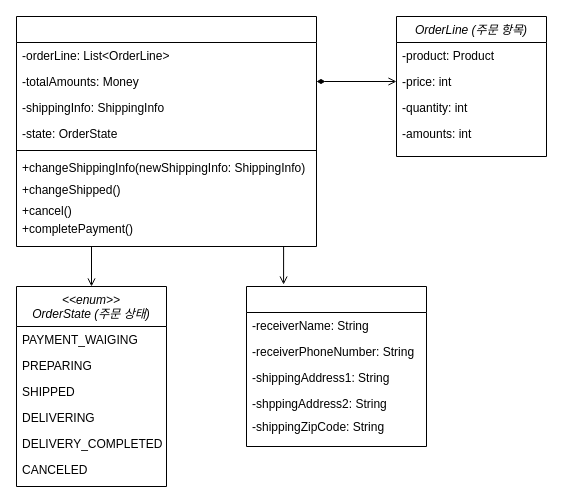
This 563x503 diagram has some shape labels left out. Each missing label, with the box of its shape:
Order (주문): (16, 16, 316, 246)
ShippigInfo (배송지 정보): (246, 286, 426, 446)
